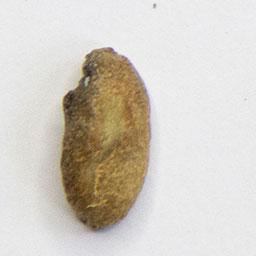defect: (58, 45, 155, 234)
